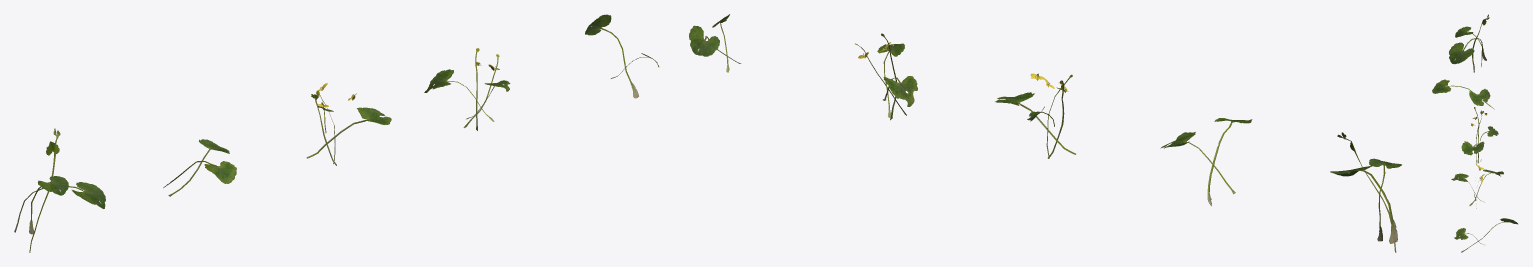
File: celandine.glb
3 renders of one model, left to right at view 1: azimuth 30°, elevation 25°; view 2: azimuth 150°, elevation 25°; view 3: azimuth 270°, elevation 25°, orthographic. The views are drawn at different scales.
Visible parts, largest first — view 1: celandine_01_a_LOD0; view 2: celandine_01_a_LOD0; view 3: celandine_01_a_LOD0.
Boxes of the visible parts, left/top/right/bottom form: celandine_01_a_LOD0: left=14, top=14, right=658, bottom=252; celandine_01_a_LOD0: left=689, top=14, right=1401, bottom=252; celandine_01_a_LOD0: left=1432, top=14, right=1517, bottom=252.
Size of the model in its own units: 1.95 by 0.32 by 0.3612.
Materials: 1 (1 with a texture image).
